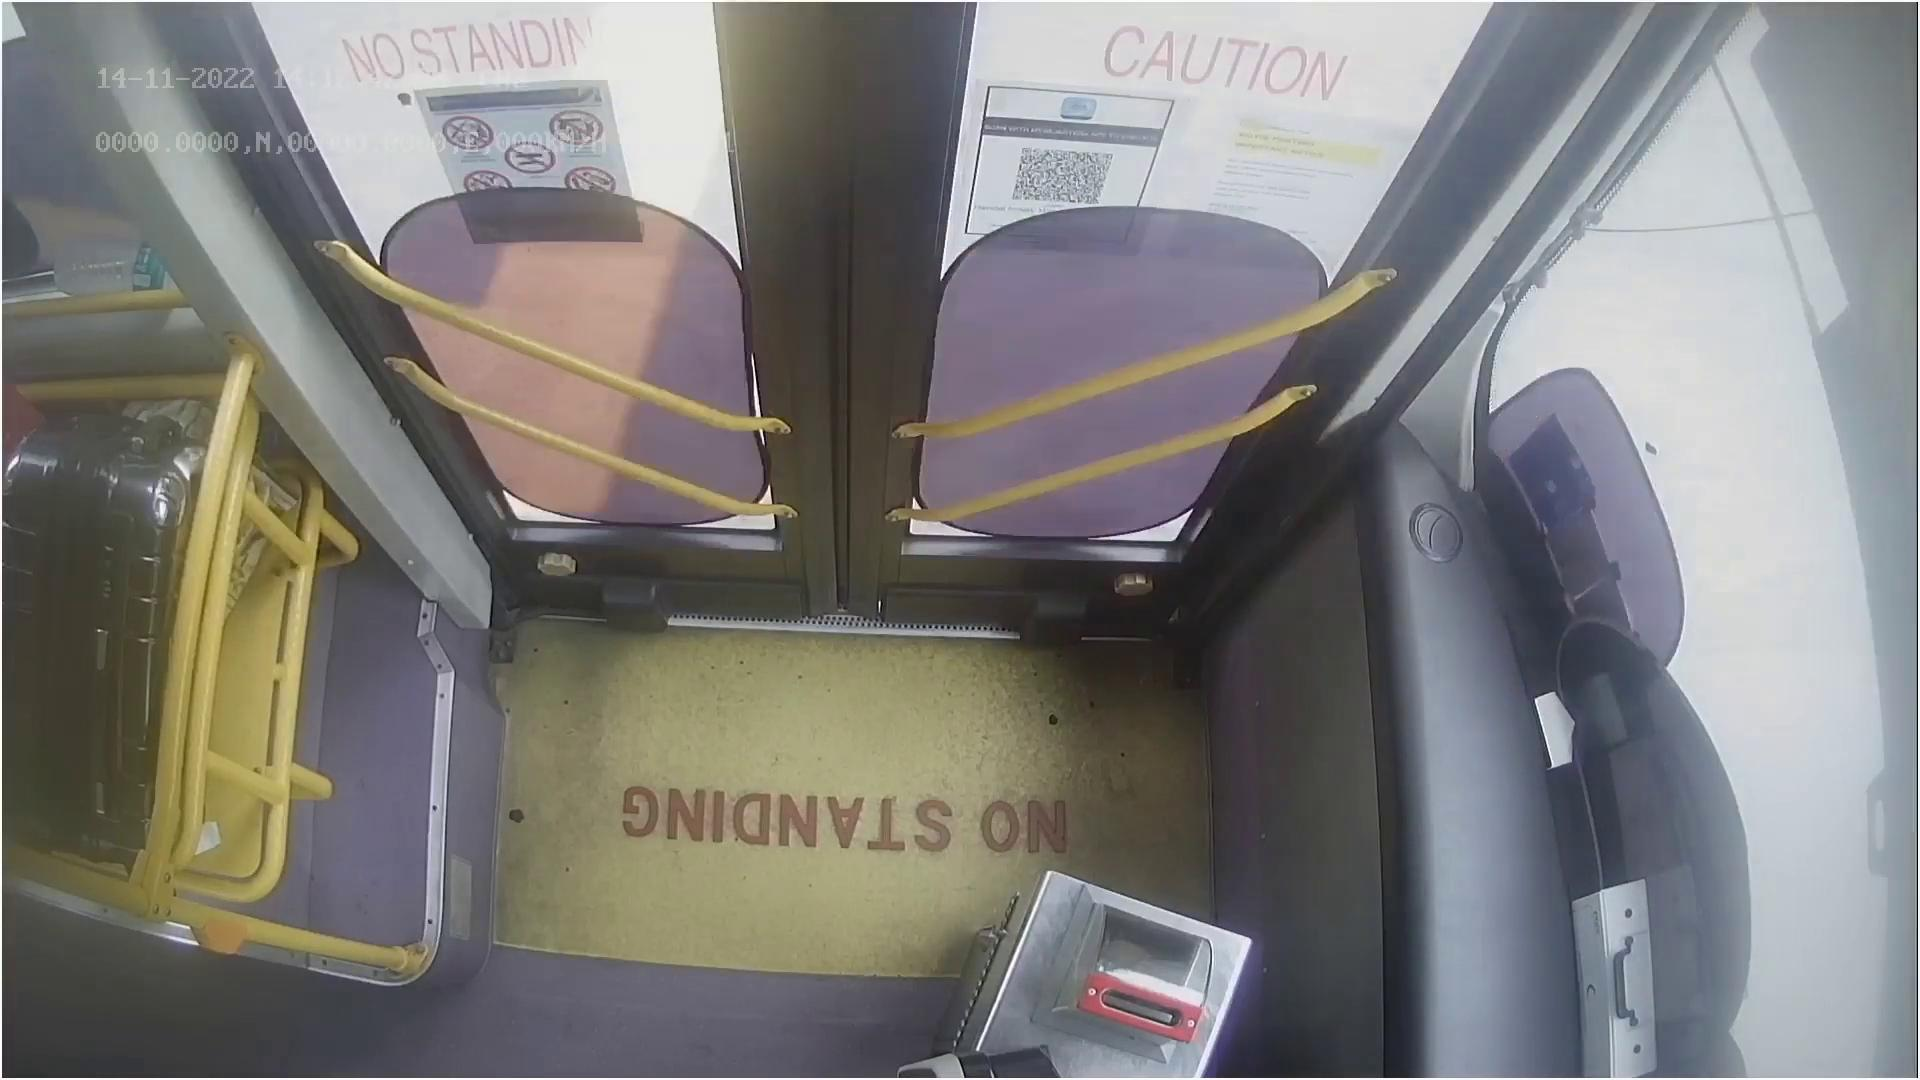close: (289, 0, 1422, 194)
